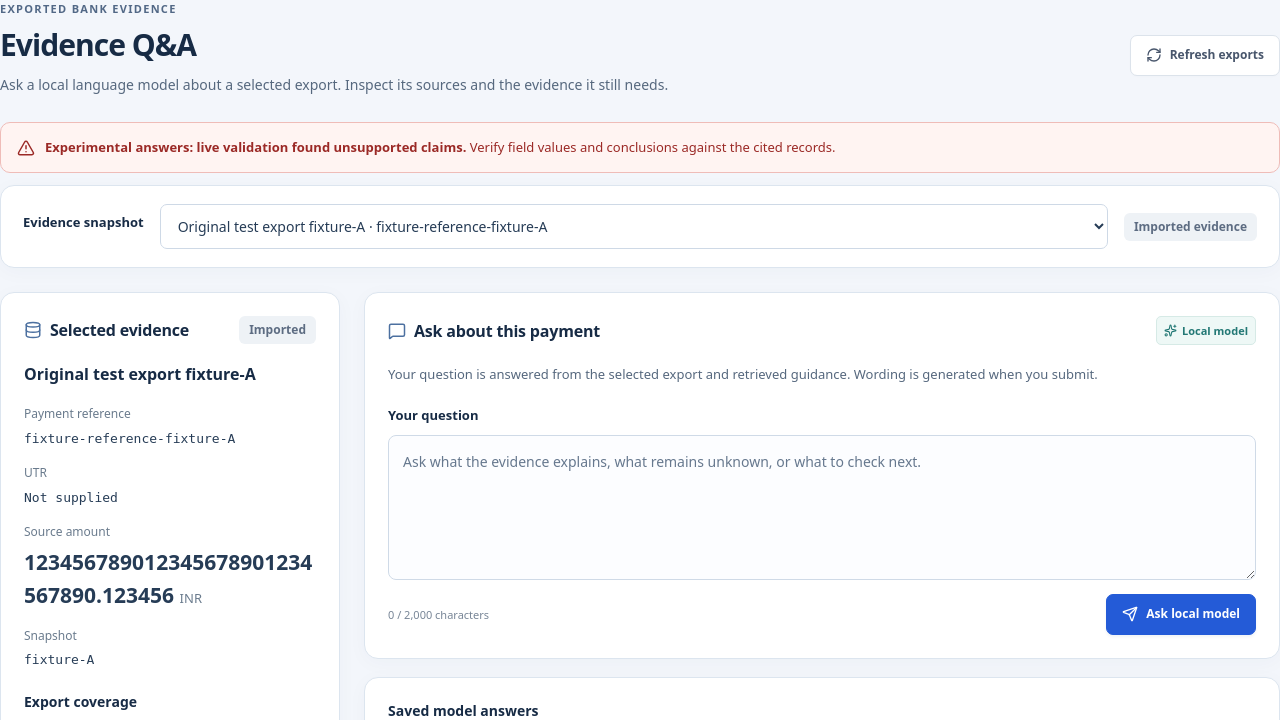
it: UAT evidence model questions › explains 504 UAT_MODEL_TIMEOUT without inventing an answer or discarding the question
Replace the text in the text box labelled "Your question" with "Explain the available export.". click: x=822, y=507
box: 388,434 -> 1256,580
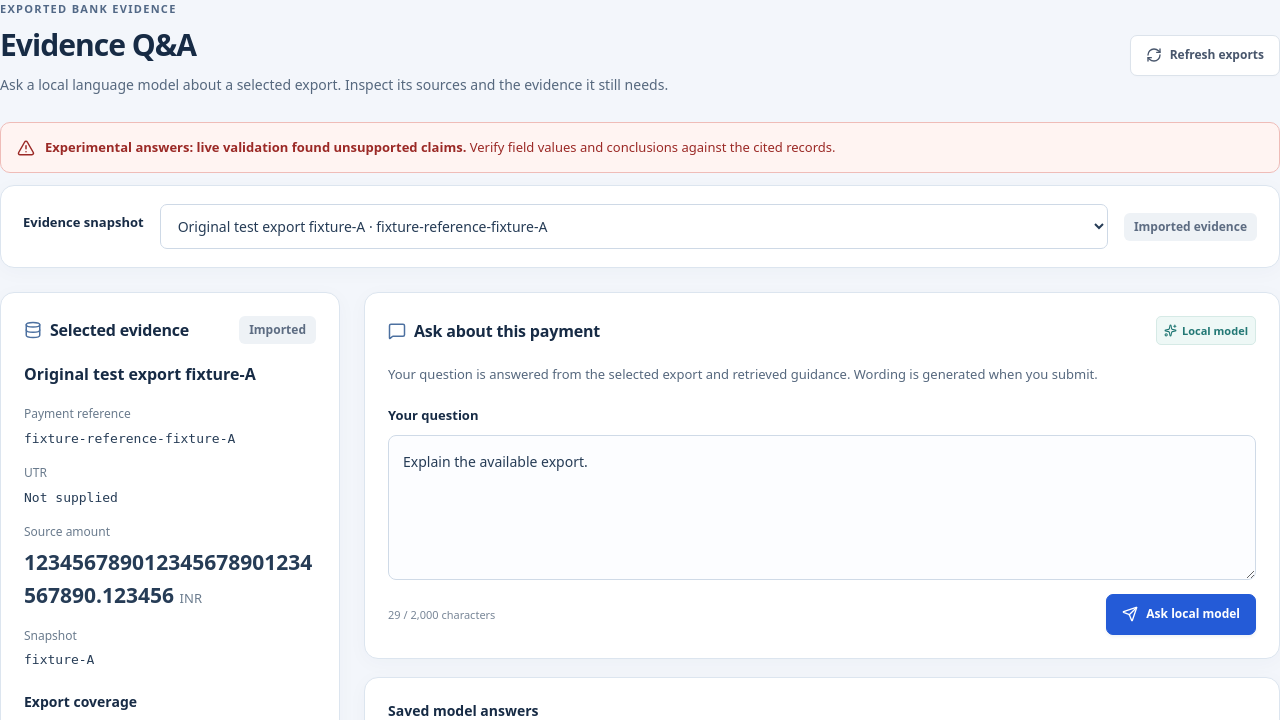
Submit the form labelled "Your question", box 388,405 -> 1256,635
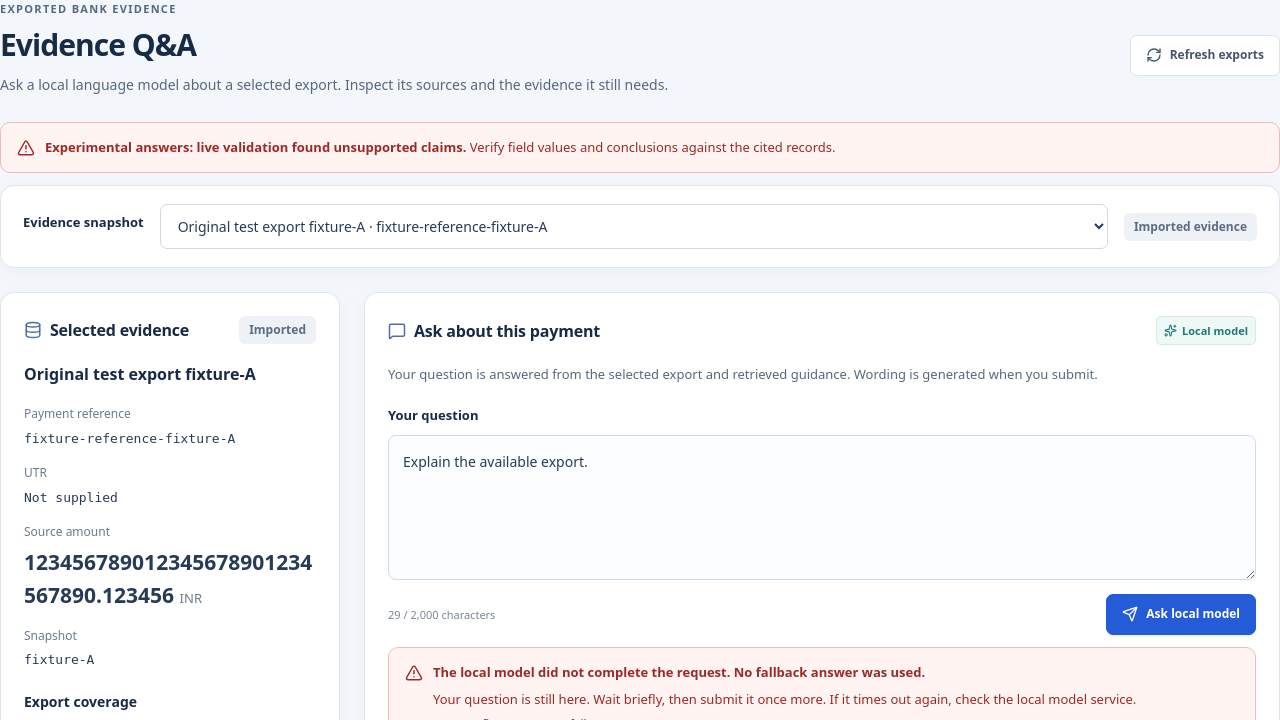
Check: the button "Ask local model" is enabled, box 1106,594 -> 1256,635
Check: the message shows "If it times out again, check the local model service.", box 433,690 -> 1136,708
Check: the message shows "No fallback answer was used.", box 433,663 -> 925,681
